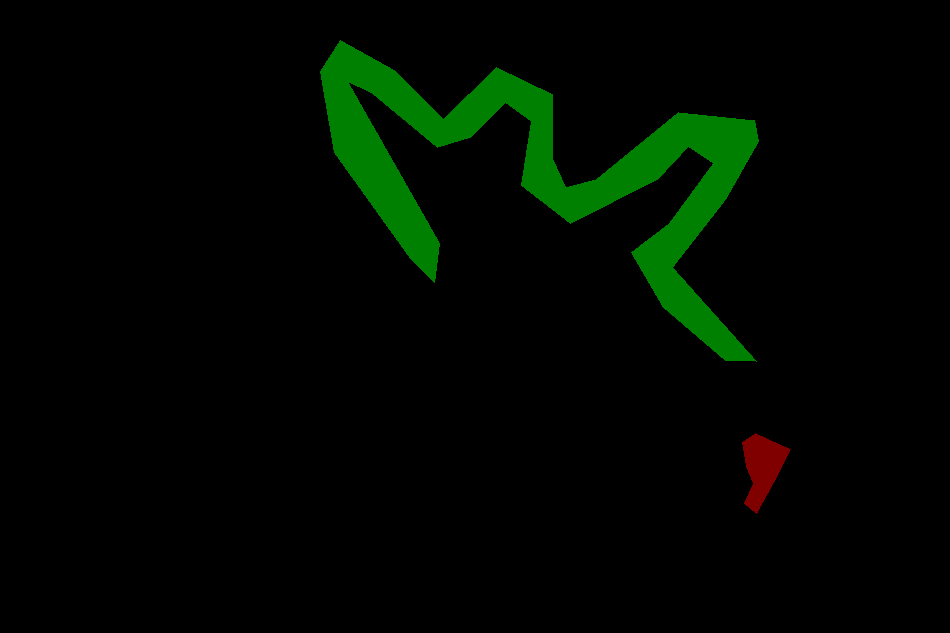fire: (320, 40, 758, 361), (742, 433, 790, 513)
